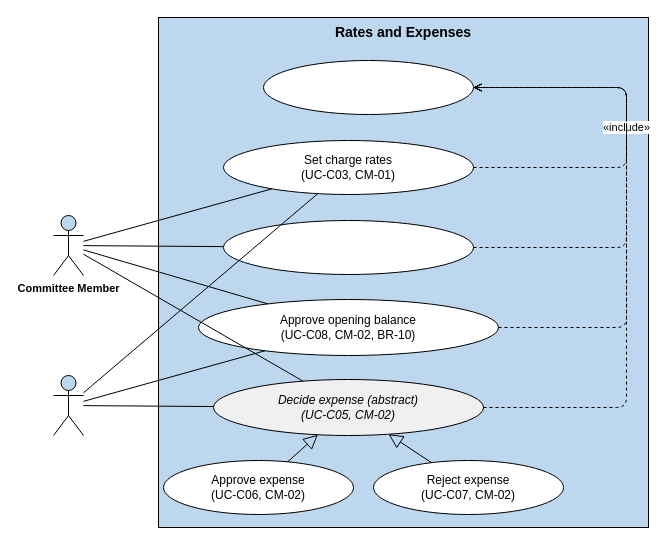
Some shapes in this 667 by 545 pixel diagram are drawn without their labels. The centre of each missing label's shape, as x and y in pixels:
Building Manager: (x=68, y=405)
Log in (UC-C01): (x=368, y=87)
View rate history (UC-C04, CM-01): (x=348, y=247)
